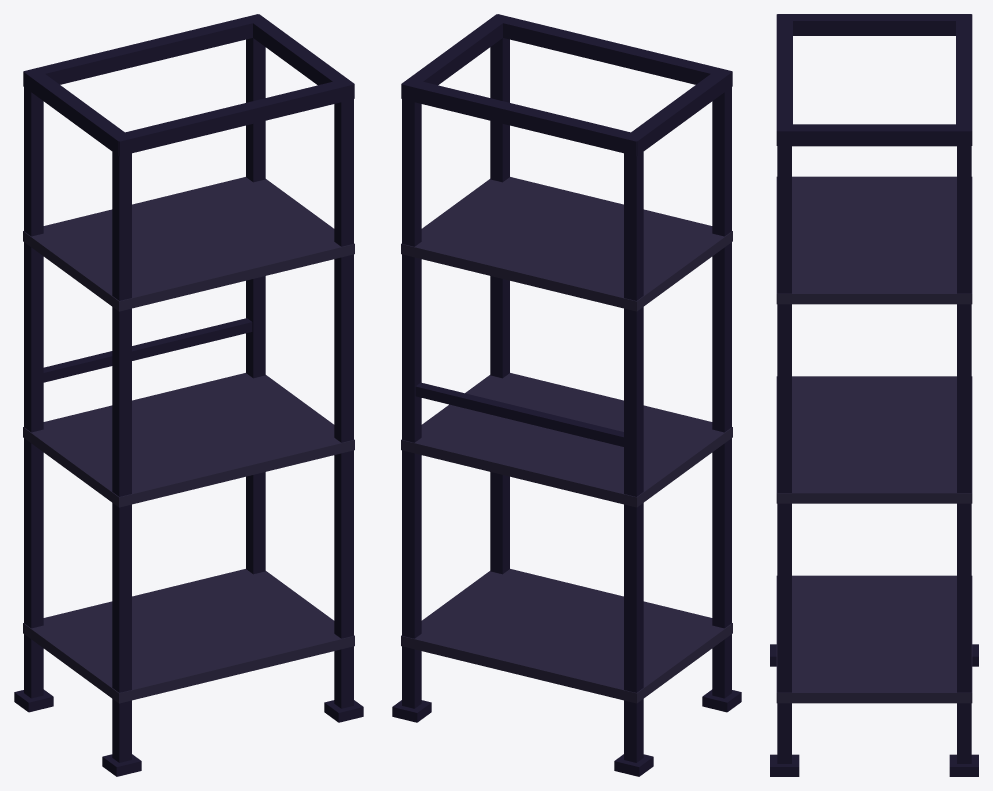
The model's file is server_rack.glb.
3 renders of one model, left to right at view 1: azimuth 30°, elevation 25°; view 2: azimuth 150°, elevation 25°; view 3: azimuth 270°, elevation 25°, orthographic.
Parts seen in each view (by area): view 1: rack, SHELF_2, SHELF_1, SHELF_0; view 2: rack, SHELF_2, SHELF_0, SHELF_1; view 3: rack, SHELF_0, SHELF_2, SHELF_1.
Boxes of the visible parts, x1=… form: rack: x1=14, y1=14, x2=363, y2=776; SHELF_2: x1=23, y1=177, x2=354, y2=311; SHELF_1: x1=23, y1=373, x2=354, y2=507; SHELF_0: x1=23, y1=569, x2=354, y2=703; rack: x1=392, y1=14, x2=741, y2=776; SHELF_2: x1=401, y1=177, x2=732, y2=311; SHELF_0: x1=401, y1=569, x2=732, y2=703; SHELF_1: x1=401, y1=373, x2=732, y2=507; rack: x1=770, y1=14, x2=978, y2=776; SHELF_0: x1=776, y1=575, x2=972, y2=703; SHELF_2: x1=776, y1=176, x2=972, y2=304; SHELF_1: x1=776, y1=376, x2=972, y2=503.
Bounding box in the file's own units: 0.7912 × 1.93 × 0.5688.
